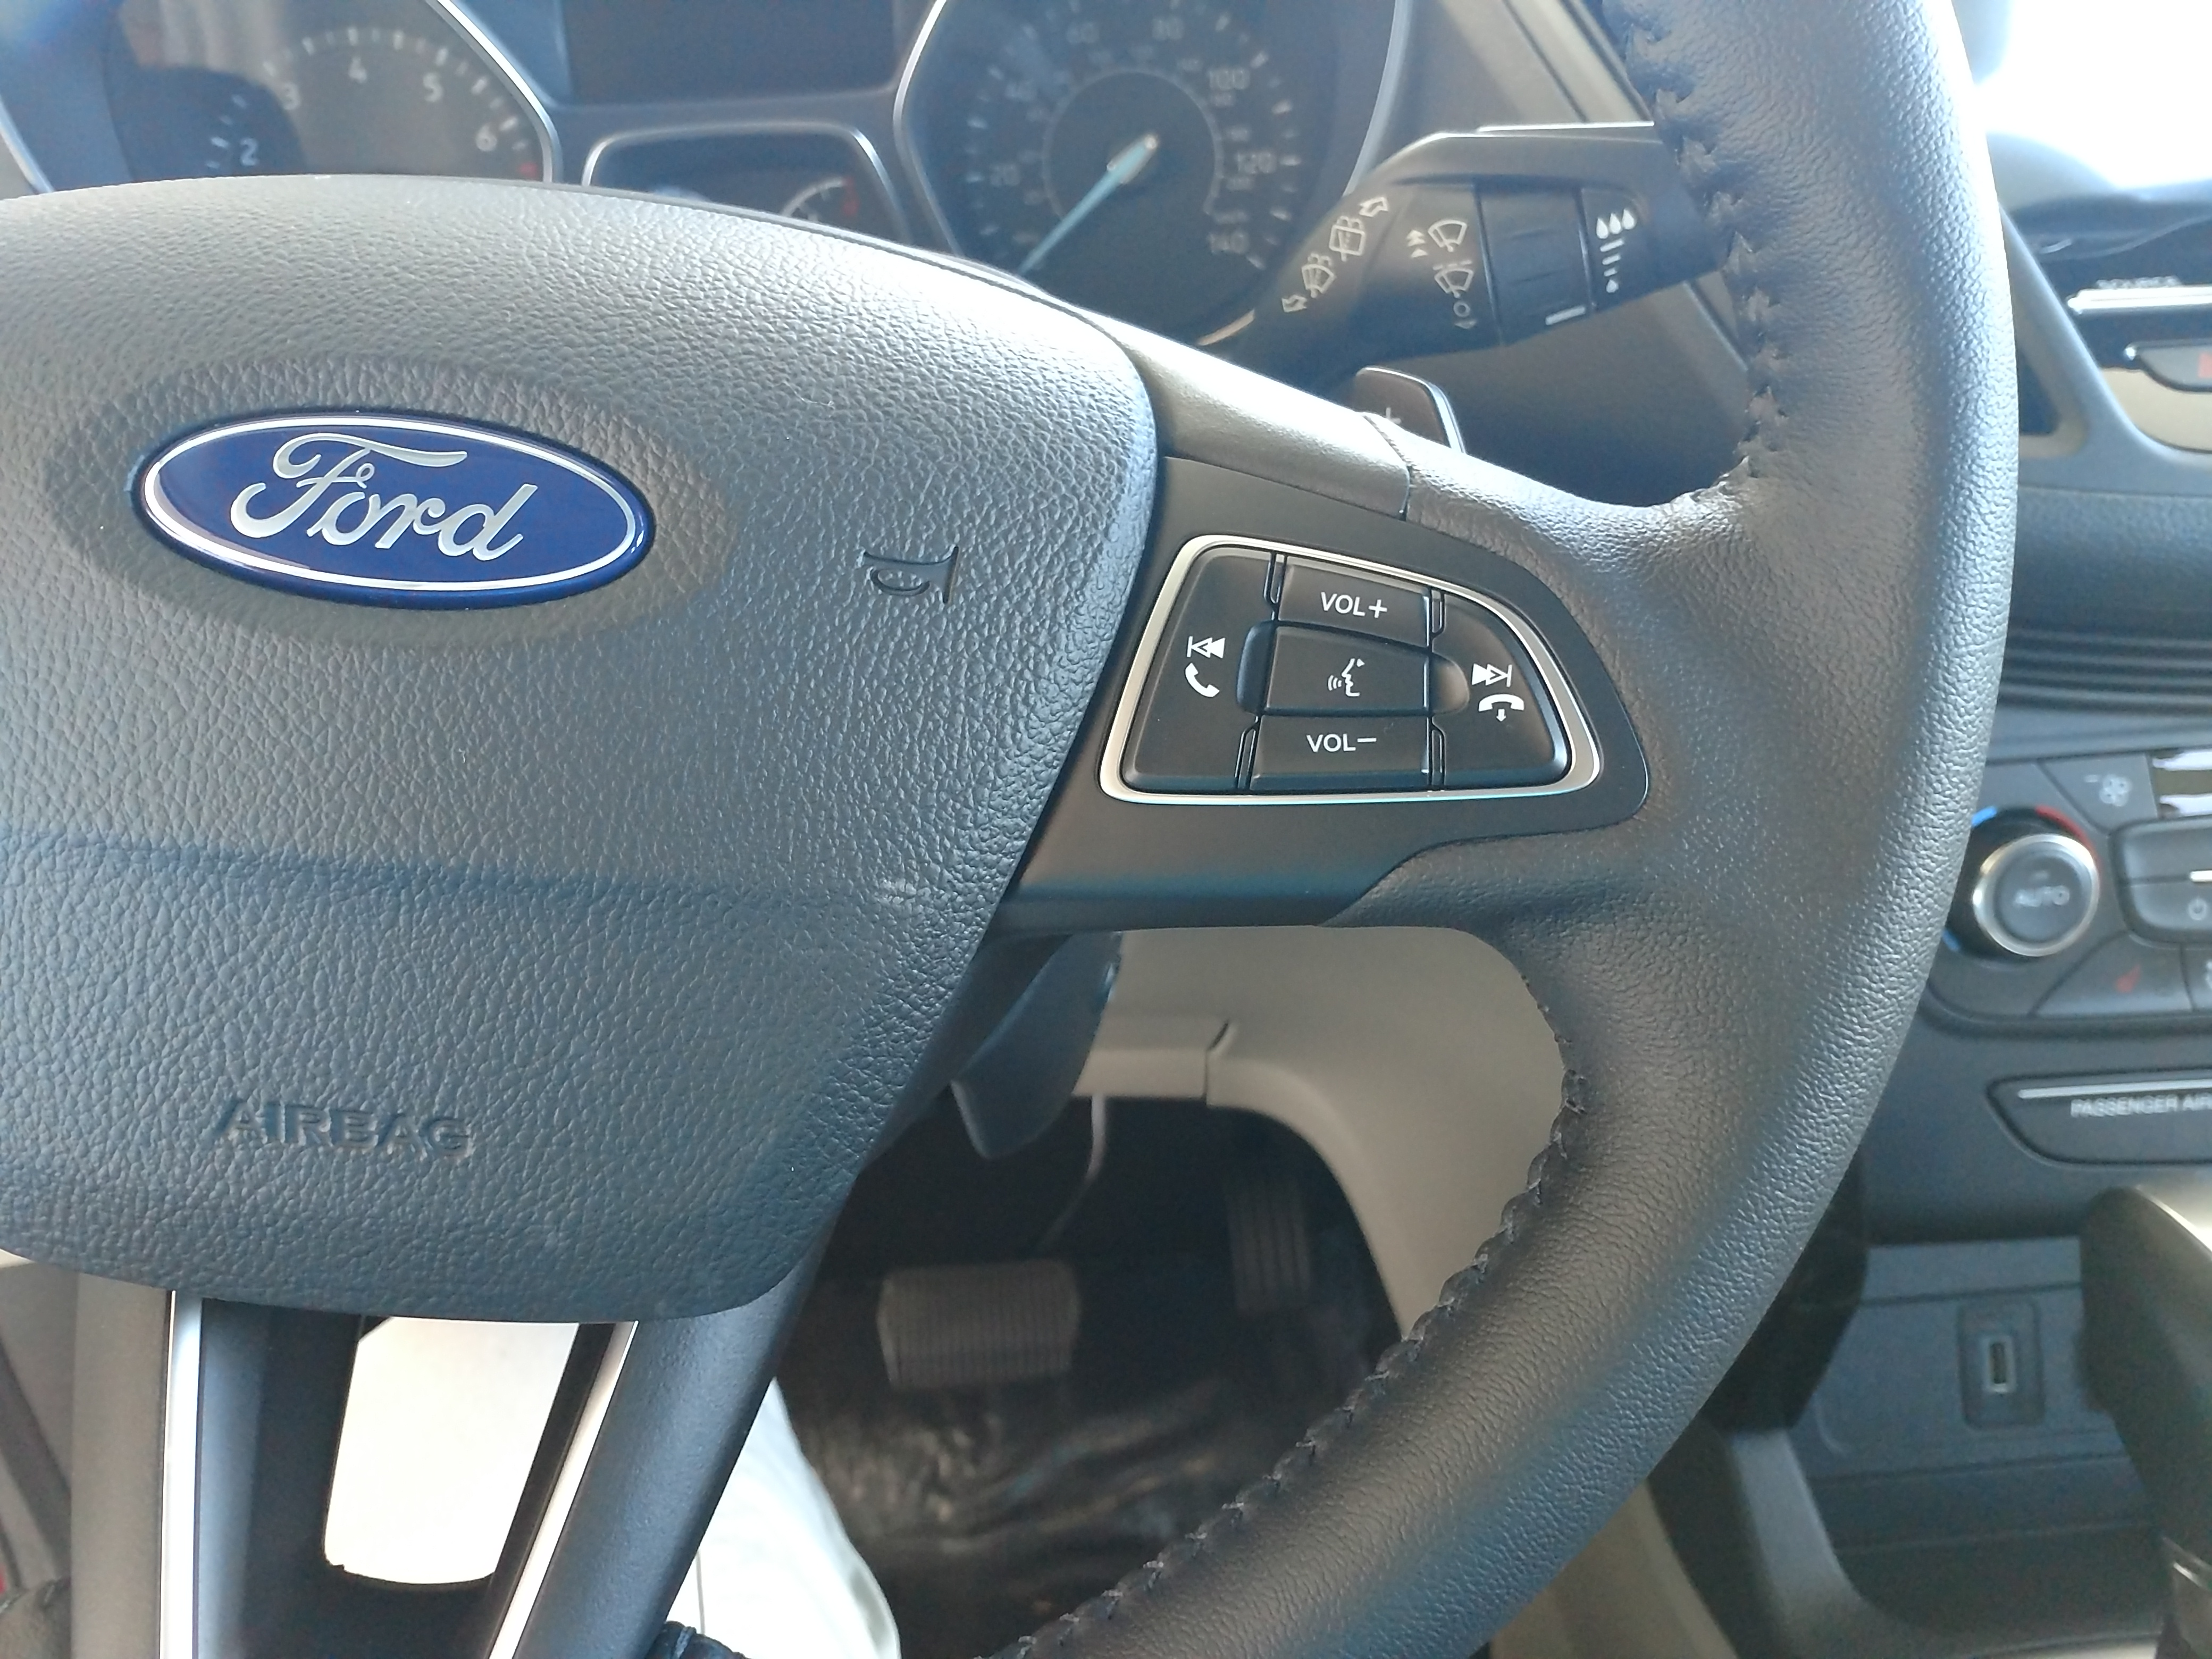Ford: (111, 387, 691, 619)
